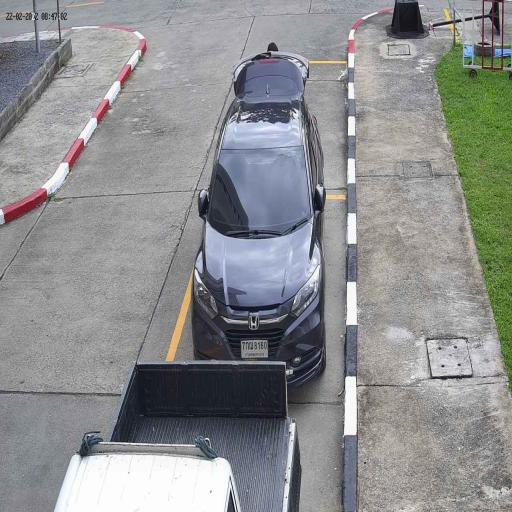car: (190, 92, 326, 379), (54, 361, 305, 512)
